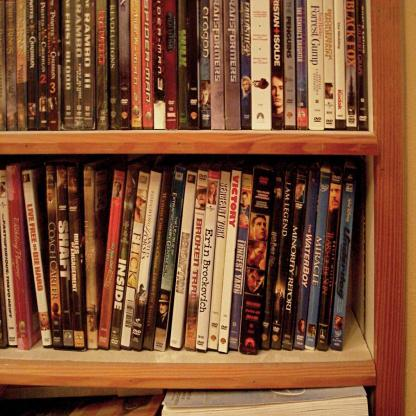book: (10, 19, 414, 393), (161, 384, 367, 416), (71, 394, 167, 416)
